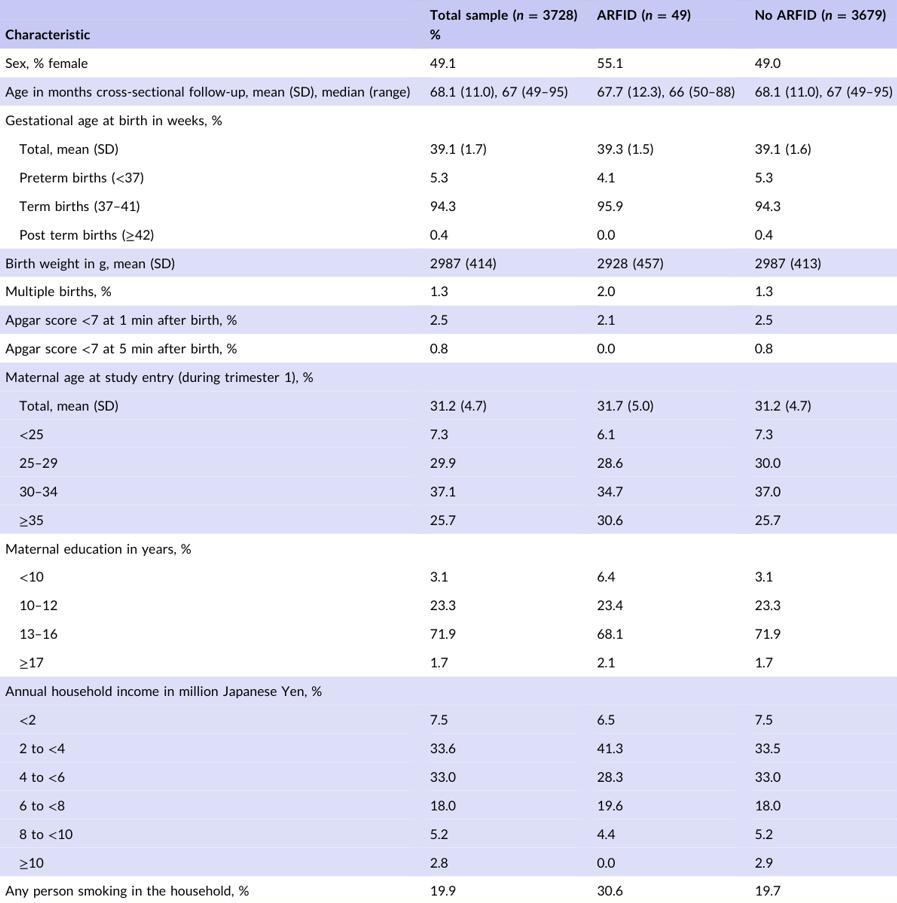table: (4, 4, 892, 897)
table column: (4, 4, 419, 897), (419, 4, 586, 897), (586, 4, 744, 897), (744, 4, 892, 897)
table column header: (4, 4, 892, 48)
table projected row header: (4, 105, 892, 133), (4, 363, 892, 390), (4, 535, 892, 561), (4, 677, 892, 703)
table row: (4, 4, 892, 48), (4, 161, 892, 192), (4, 218, 892, 249), (4, 418, 892, 449), (4, 504, 892, 535), (4, 561, 892, 592), (4, 646, 892, 677), (4, 703, 892, 734), (4, 304, 892, 334), (4, 76, 892, 105), (4, 334, 892, 363), (4, 762, 892, 791), (4, 819, 892, 848), (4, 848, 892, 877), (4, 48, 892, 76), (4, 105, 892, 133), (4, 133, 892, 161), (4, 276, 892, 304), (4, 390, 892, 418), (4, 476, 892, 504), (4, 734, 892, 762), (4, 791, 892, 819), (4, 249, 892, 276), (4, 363, 892, 390), (4, 449, 892, 476), (4, 592, 892, 619), (4, 619, 892, 646), (4, 192, 892, 218), (4, 535, 892, 561), (4, 677, 892, 703), (4, 877, 892, 897)
